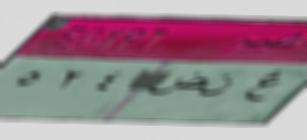2: (58, 65, 83, 97)
4: (94, 69, 122, 100)
5: (15, 67, 45, 90)
daad: (150, 70, 205, 104)
ghayn: (242, 65, 282, 113)
noon: (201, 72, 239, 98)
